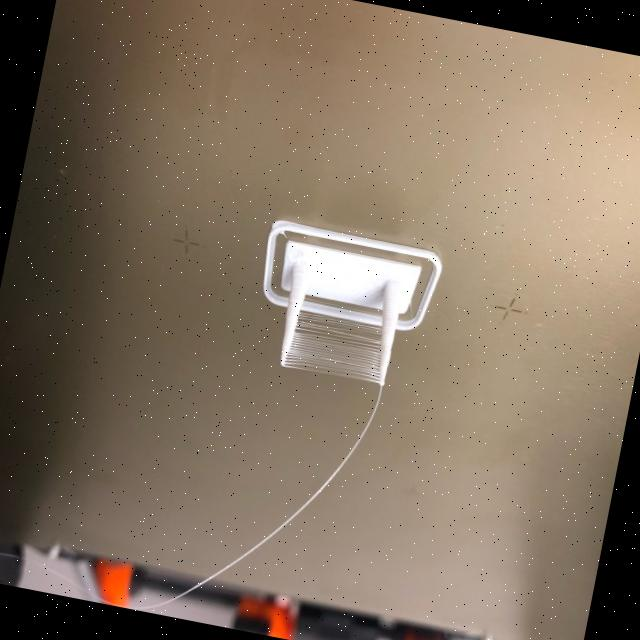stringing: (284, 309, 382, 388)
